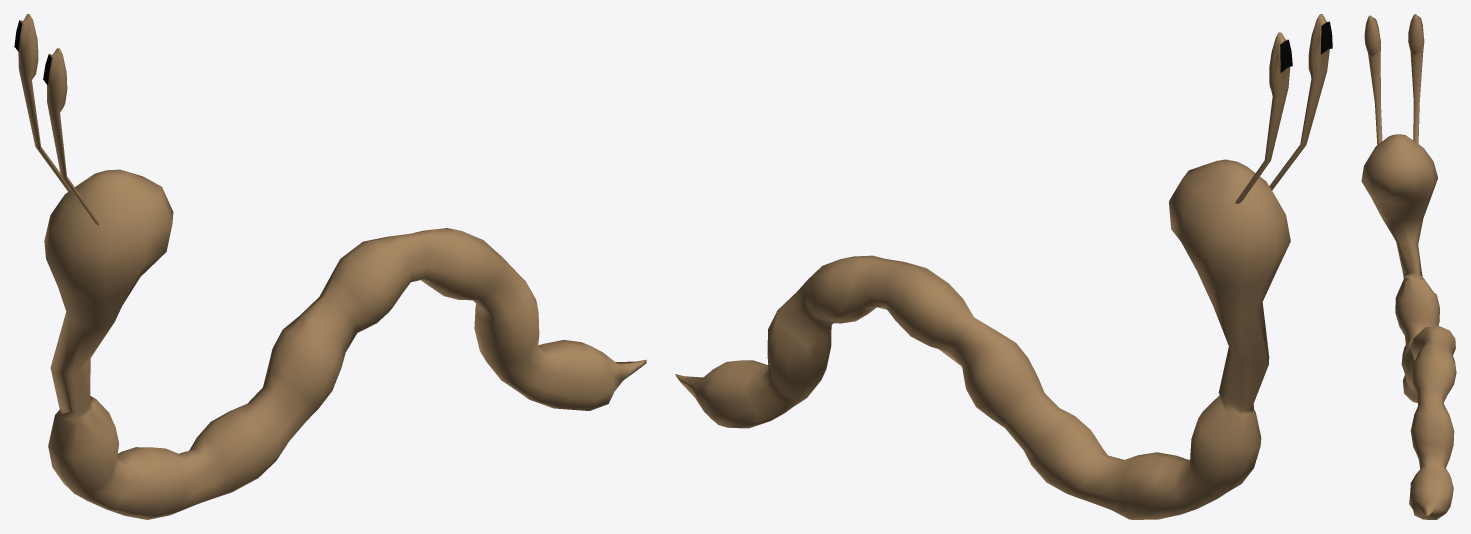
File: wormposed.fbx
The picture shows the model from 3 angles, left to right: view 1: azimuth 30°, elevation 25°; view 2: azimuth 150°, elevation 25°; view 3: azimuth 270°, elevation 25°; orthographic projection. The views are drawn at different scales.
Parts seen in each view (by area): view 1: worm; view 2: worm; view 3: worm.
Part boxes in pixels (left/top/right/bottom): worm: left=14, top=14, right=646, bottom=519; worm: left=675, top=14, right=1332, bottom=519; worm: left=1361, top=14, right=1456, bottom=519.
Bounding box in the file's own units: 8.57 × 6.85 × 1.77.
